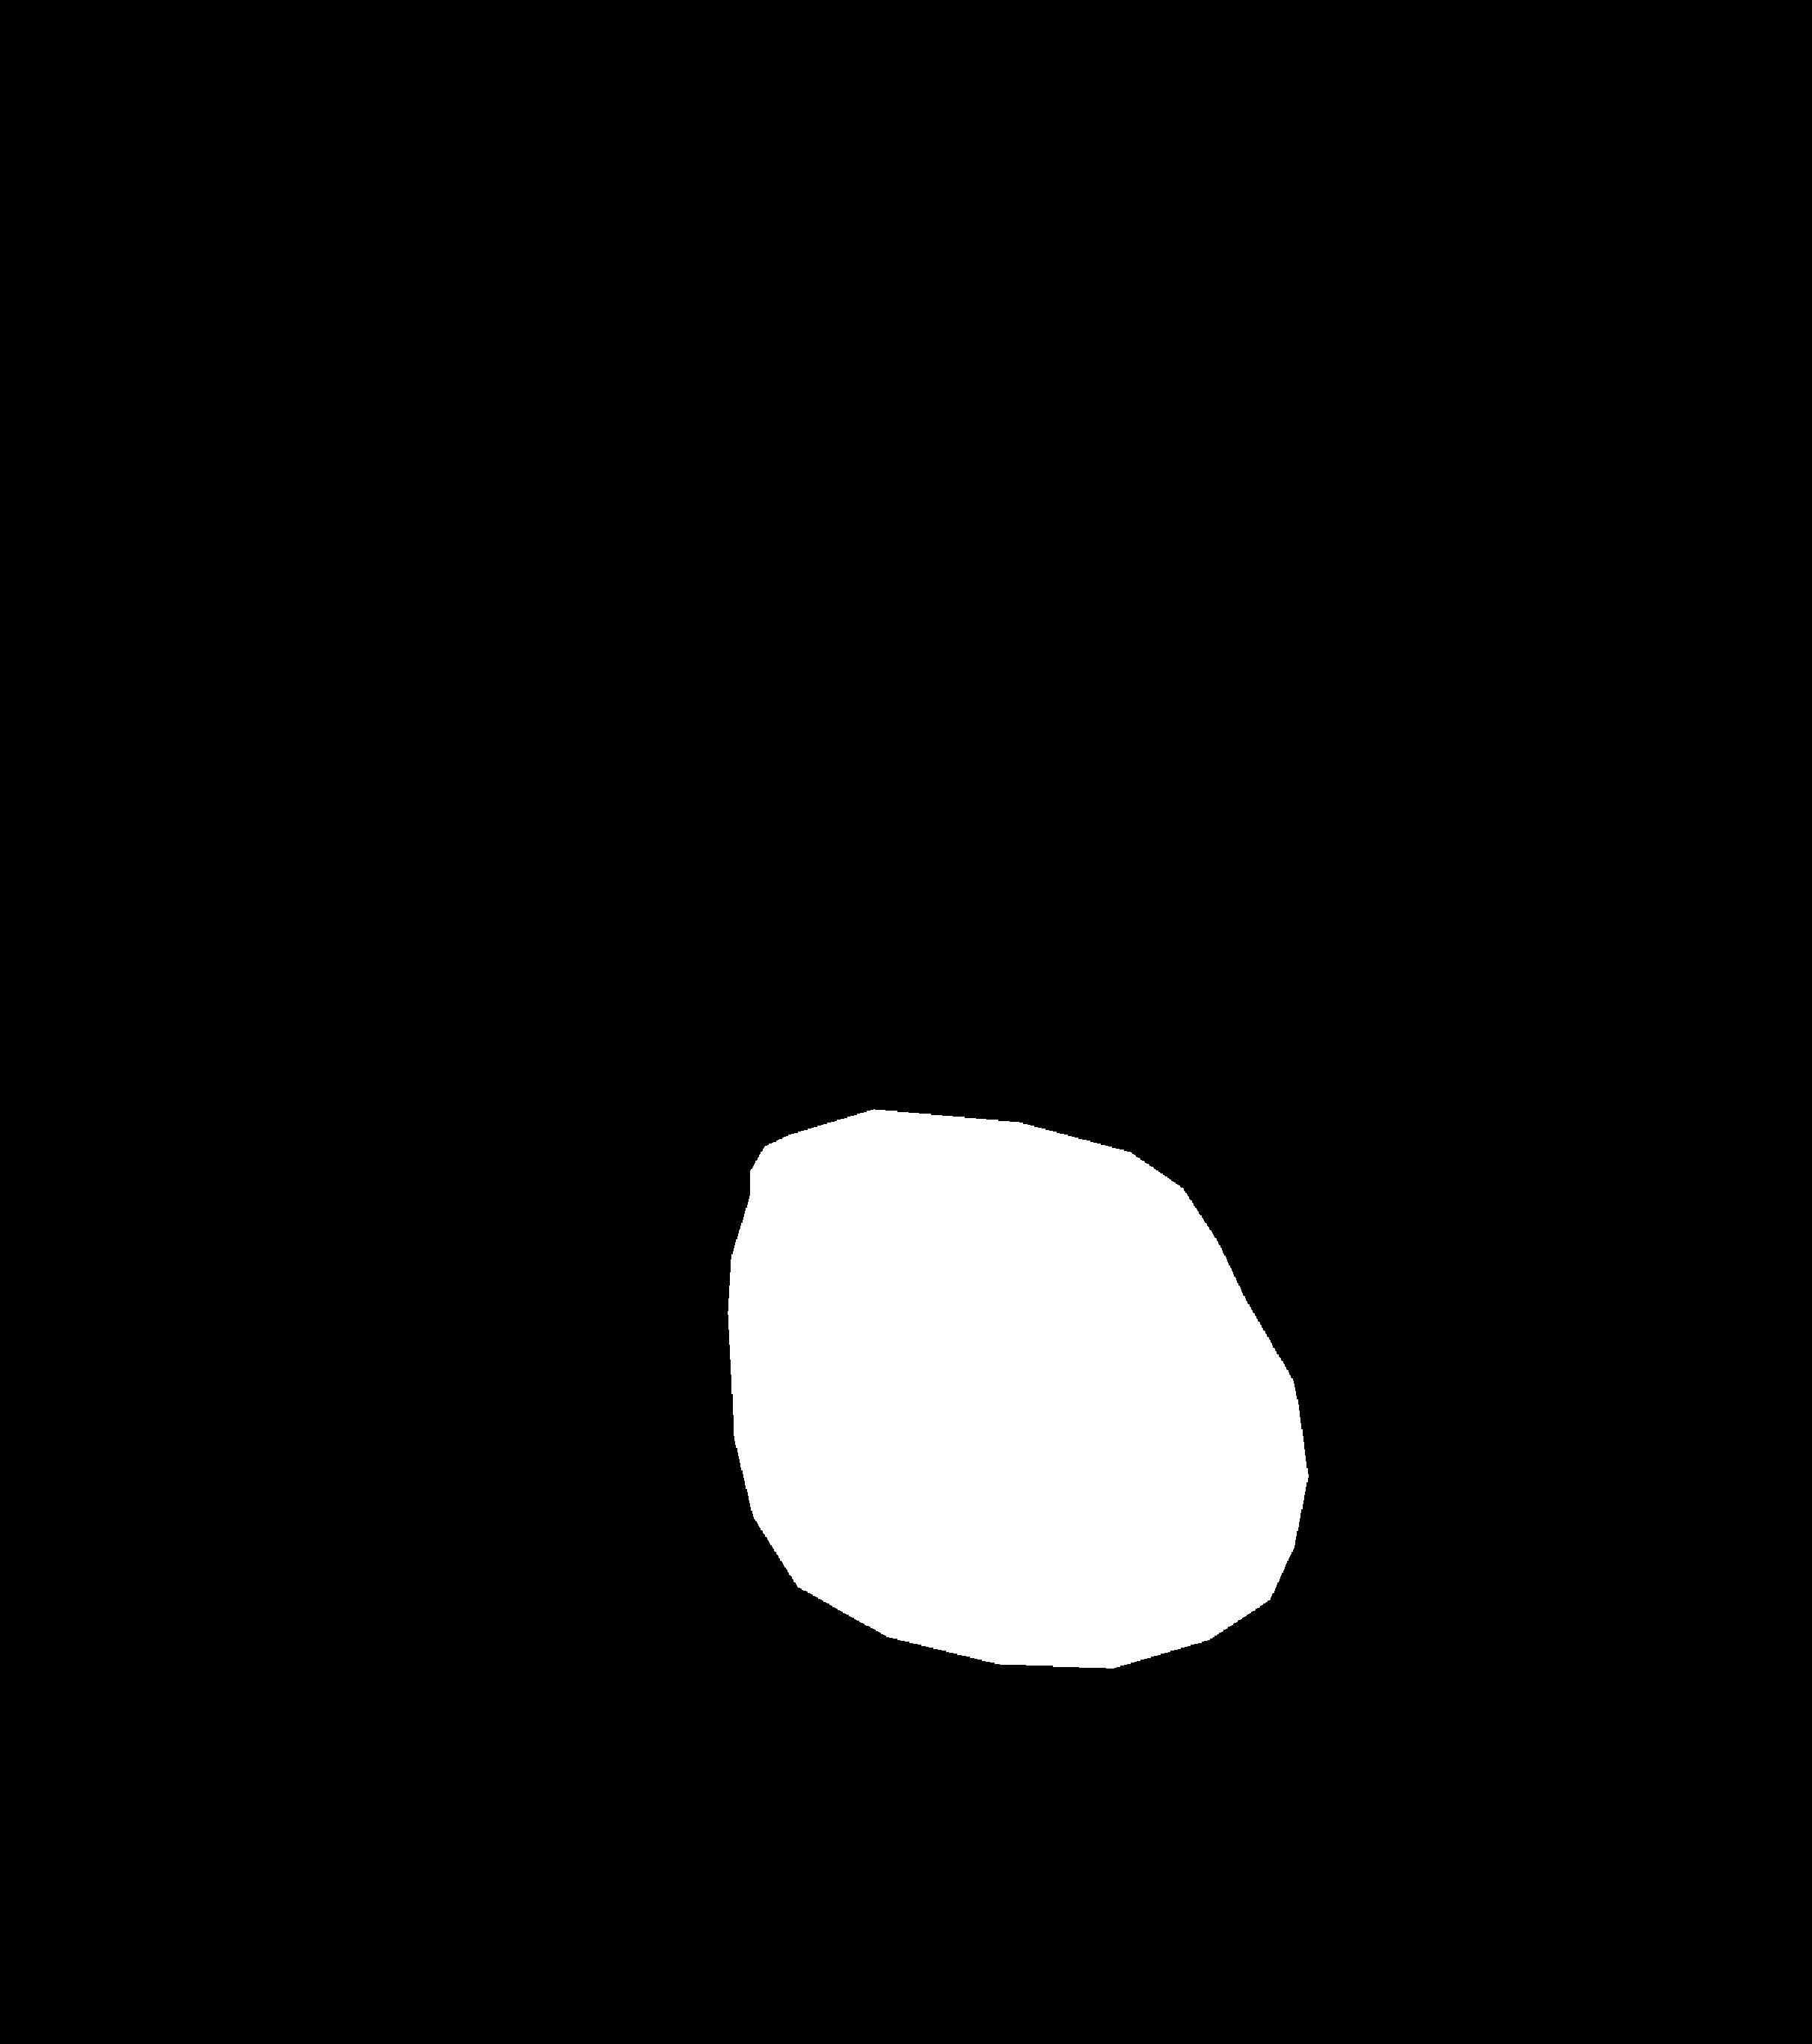heart: (731, 1191, 1307, 1647)
left_lung: (161, 325, 845, 1848)
right_lung: (958, 334, 1583, 1876)
